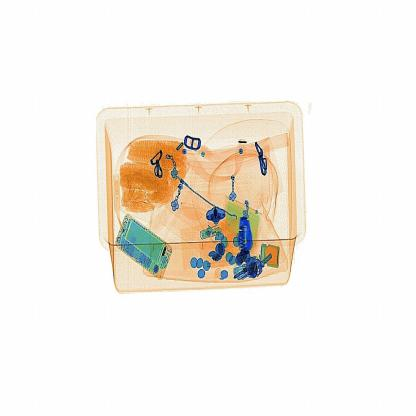scissors: (234, 203, 258, 256)
